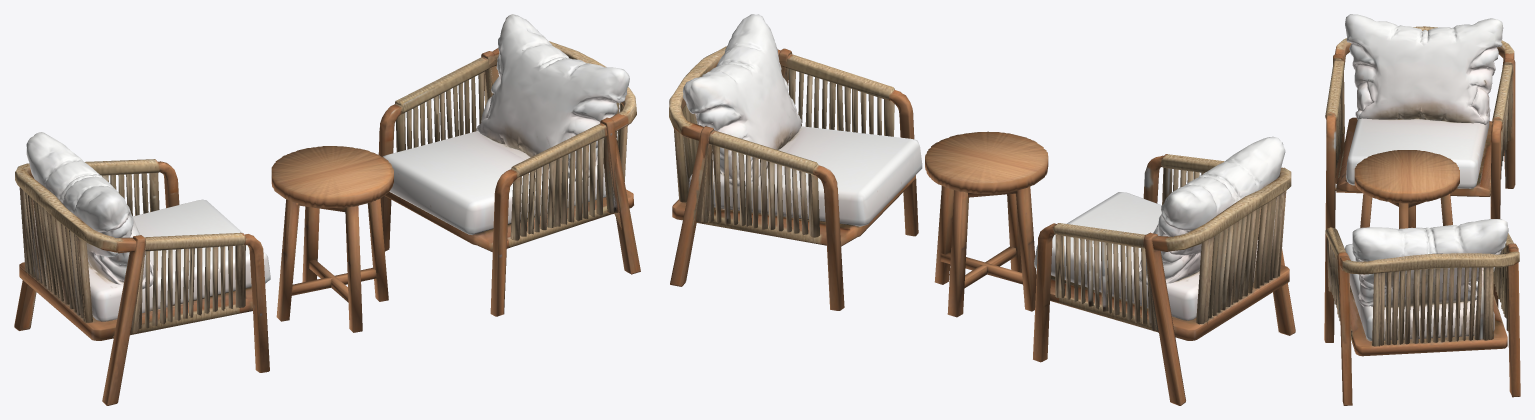
Rendered from 04 komplekt_derevyannoy_mebeli_tagliamento_ravona_kd.glb.
3 views of the same model, side by side, from view 1: azimuth 30°, elevation 25°; view 2: azimuth 150°, elevation 25°; view 3: azimuth 270°, elevation 25° (orthographic). The views are drawn at different scales.
Visible parts, largest first — view 1: tripo_node_9d635c36-2a58-4239-9865-35d12bc0ea85; view 2: tripo_node_9d635c36-2a58-4239-9865-35d12bc0ea85; view 3: tripo_node_9d635c36-2a58-4239-9865-35d12bc0ea85.
Part boxes in pixels (x1=…): tripo_node_9d635c36-2a58-4239-9865-35d12bc0ea85: x1=14, y1=14, x2=640, y2=405; tripo_node_9d635c36-2a58-4239-9865-35d12bc0ea85: x1=669, y1=14, x2=1295, y2=405; tripo_node_9d635c36-2a58-4239-9865-35d12bc0ea85: x1=1324, y1=14, x2=1520, y2=405.
Bounding box in the file's own units: 2.03 × 0.6908 × 0.7186.
Materials: 1 (1 with a texture image).
